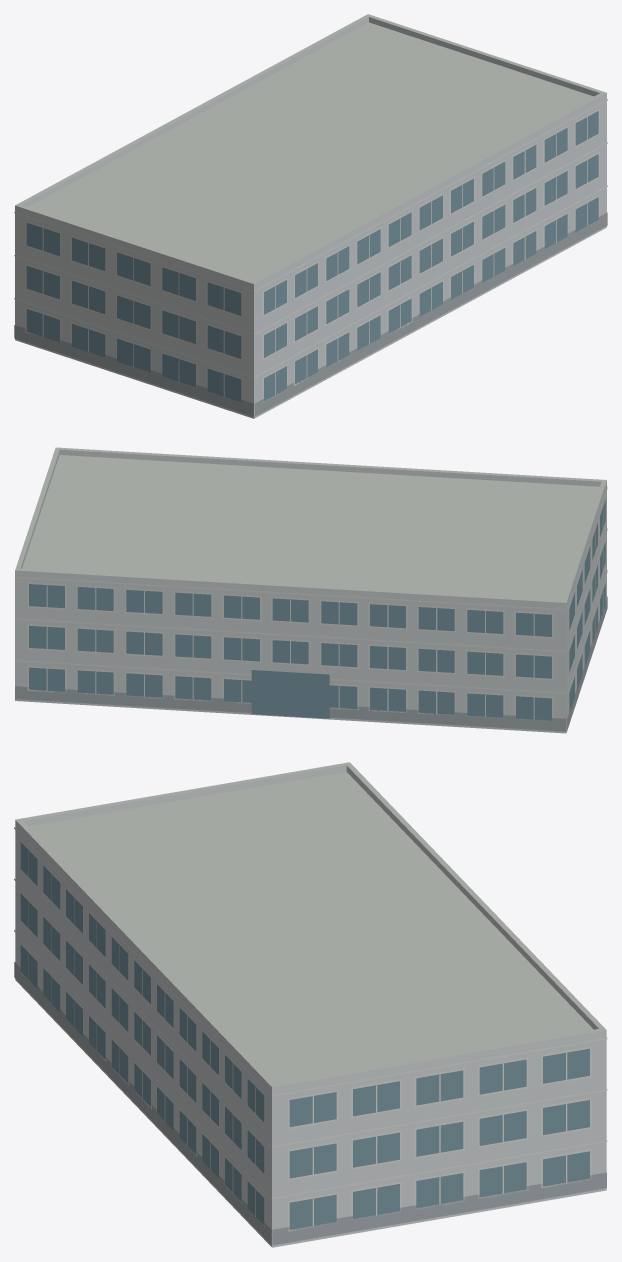
The model's file is public-91f94adb-cdad-4333-943b-b992b4fb1065.glb.
3 renders of one model, top to bottom at view 1: azimuth 30°, elevation 25°; view 2: azimuth 150°, elevation 25°; view 3: azimuth 270°, elevation 25°, orthographic. The views are drawn at different scales.
Parts seen in each view (by area): view 1: public-91f94adb-cdad-4333-943b-b992b4fb1065; view 2: public-91f94adb-cdad-4333-943b-b992b4fb1065; view 3: public-91f94adb-cdad-4333-943b-b992b4fb1065.
Part boxes in pixels (x1=…): public-91f94adb-cdad-4333-943b-b992b4fb1065: x1=14, y1=14, x2=607, y2=418; public-91f94adb-cdad-4333-943b-b992b4fb1065: x1=15, y1=447, x2=607, y2=733; public-91f94adb-cdad-4333-943b-b992b4fb1065: x1=14, y1=762, x2=607, y2=1247.
Size of the model in its own units: 39.91 by 9.15 by 30.71.
